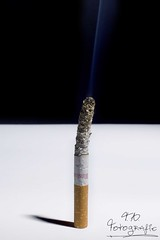cigarette: (72, 94, 96, 229)
